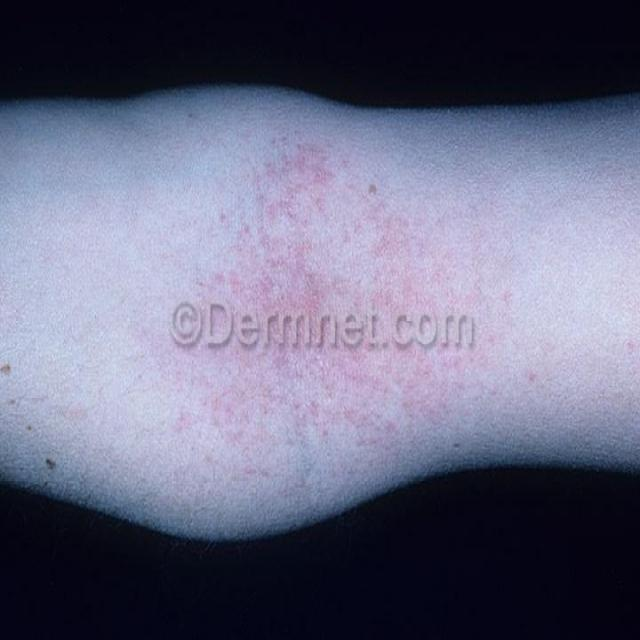Eczema: (181, 123, 488, 473)
